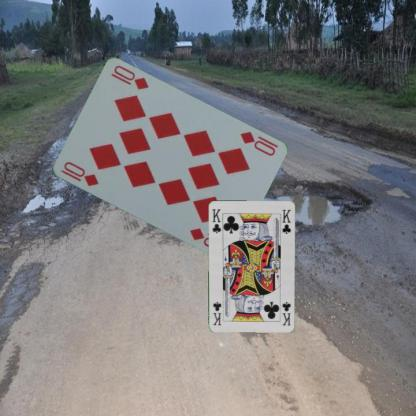10d: (58, 159, 100, 188), (237, 129, 276, 158)
Kc: (210, 207, 222, 234), (280, 299, 291, 327)
